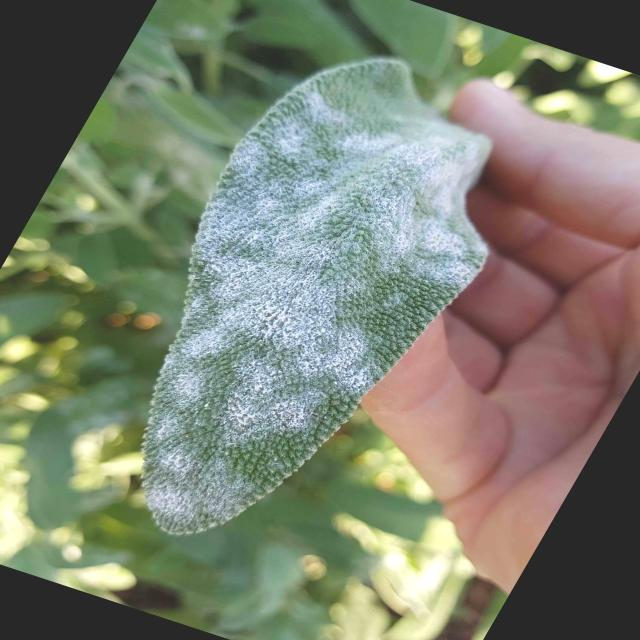Powdery Mildew: (138, 56, 494, 536)
